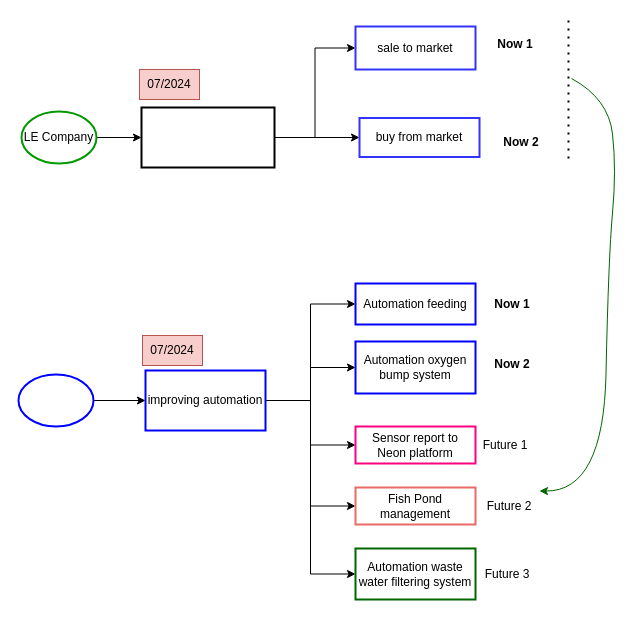
Some shapes in this 632 by 617 pixel diagram are drawn without their labels. The centre of each missing label's shape, as x and y in pixels:
Telua company: point 55,400
Temporary Integration fish farm to iAttendance: point 207,137
